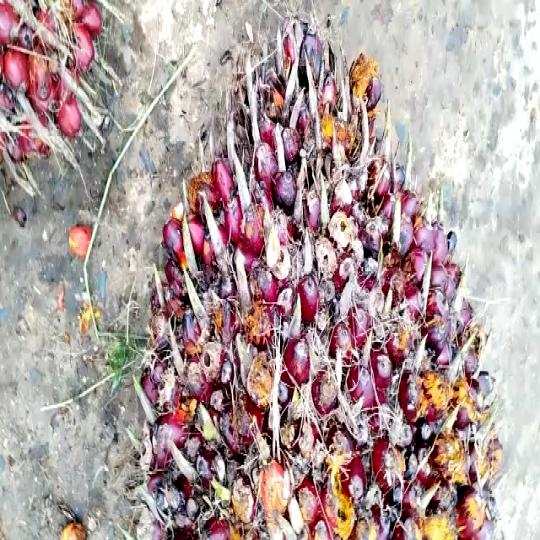masak: (143, 6, 493, 540)
